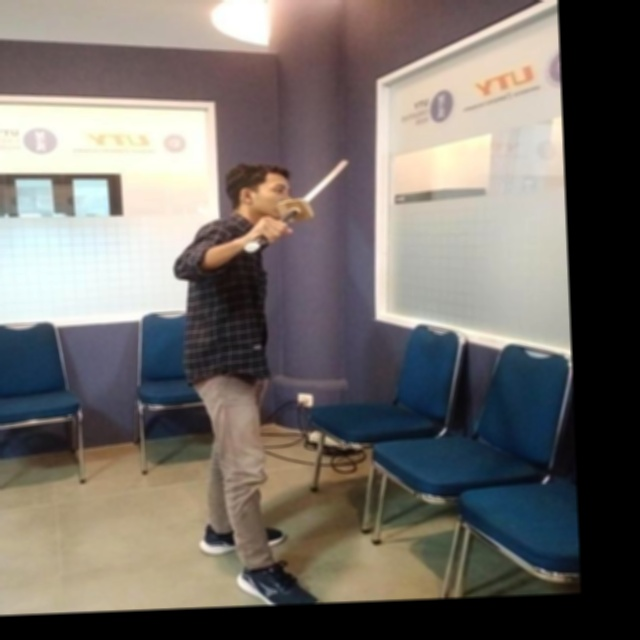Sharp-Object: (239, 157, 364, 268)
